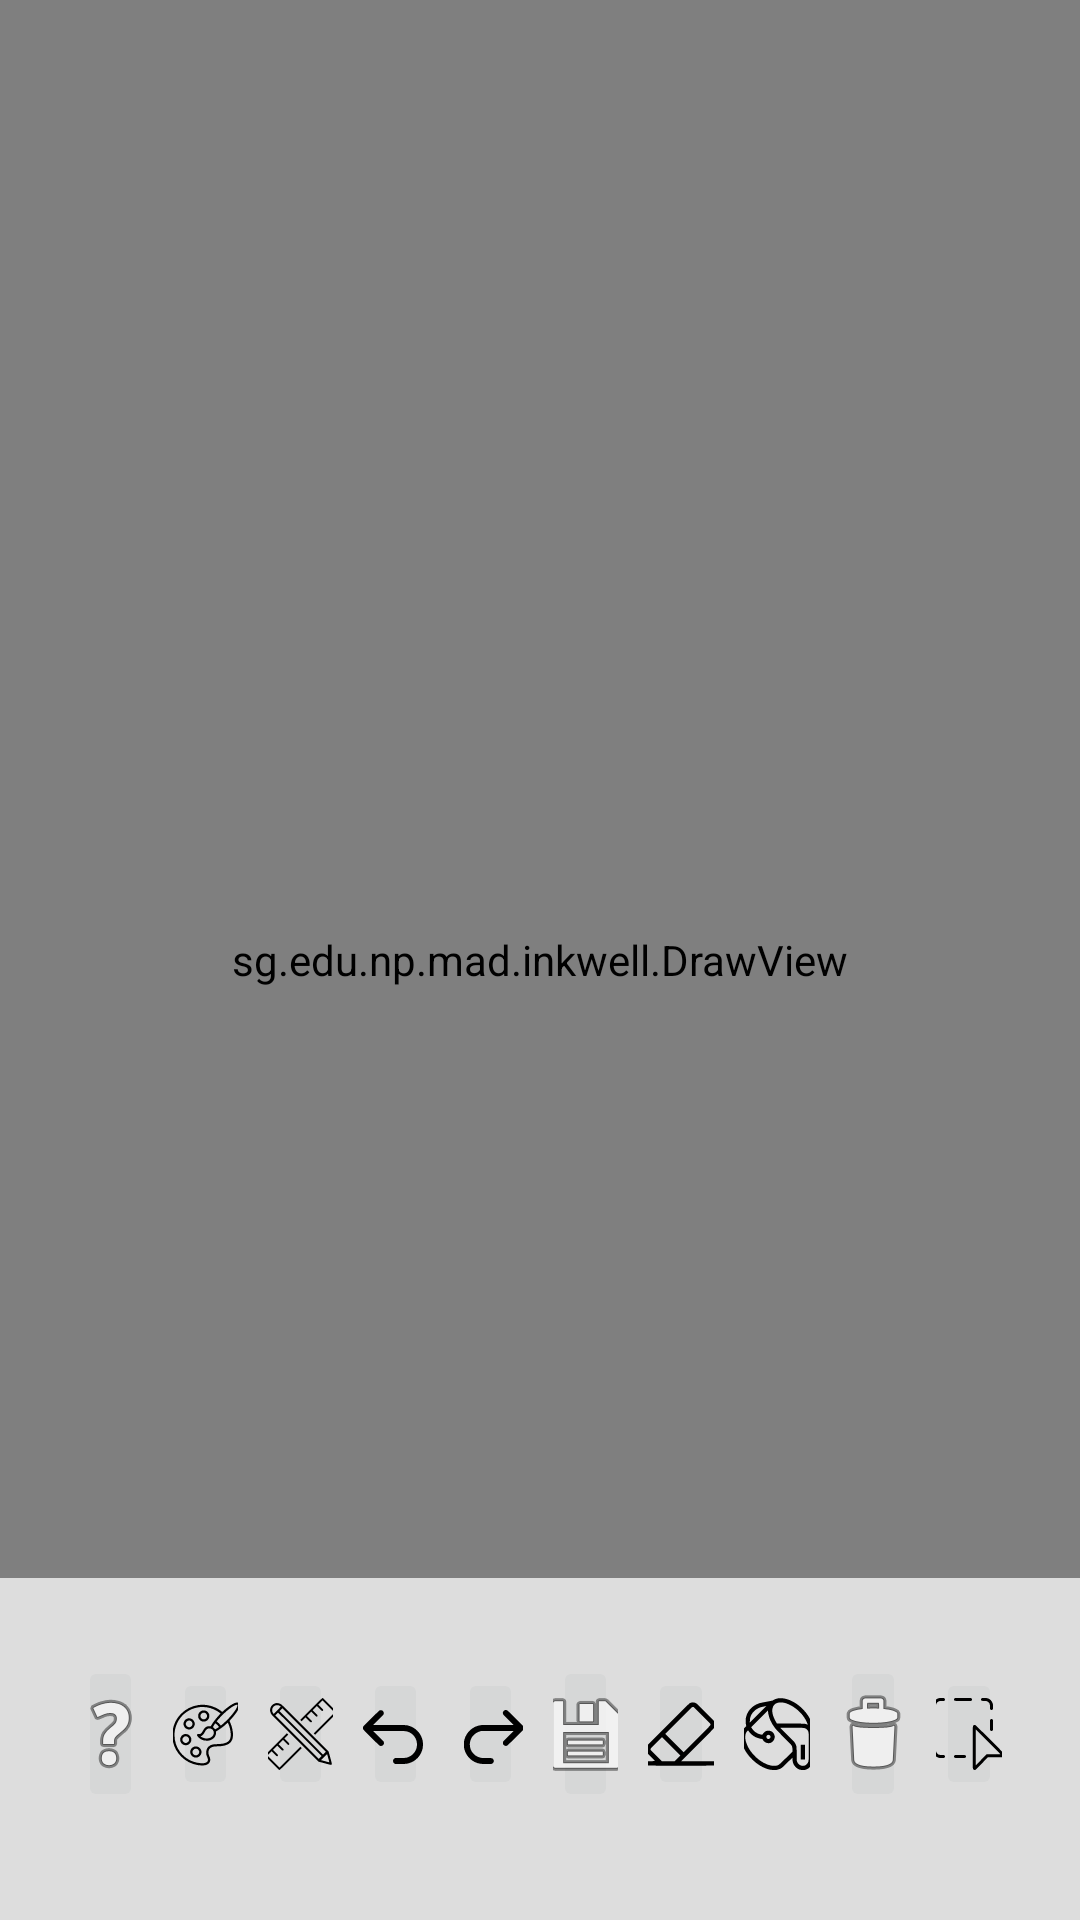

Named icons in this screenshot (1080×1920) and their bounding boxes, (x1, y1, x2, y2):
delete: (846, 1695, 901, 1770)
eraser: (648, 1702, 714, 1766)
Help: (90, 1699, 132, 1769)
paintbucket: (744, 1698, 810, 1770)
palette: (173, 1702, 238, 1766)
pensize: (268, 1698, 333, 1770)
redo: (464, 1710, 523, 1764)
save: (553, 1698, 618, 1771)
Selection Mode: (936, 1698, 1002, 1770)
undo: (363, 1710, 423, 1764)
